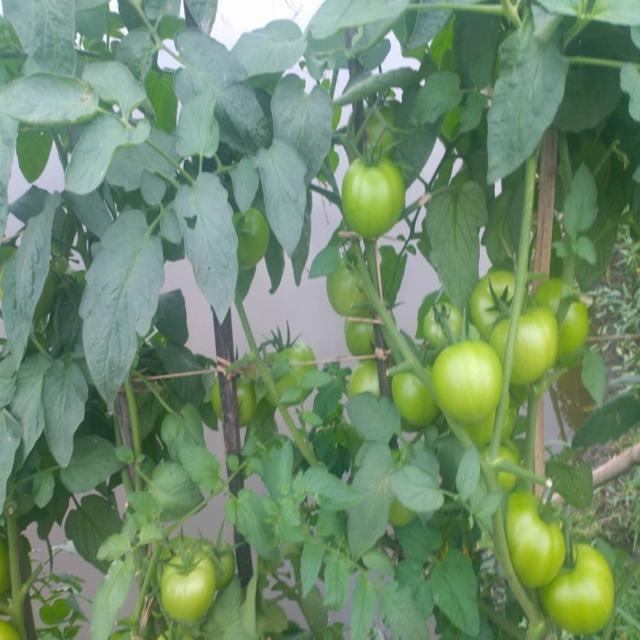tomato: (544, 541, 616, 627), (499, 495, 557, 584), (434, 346, 508, 414), (493, 313, 561, 384), (536, 276, 587, 363), (340, 157, 398, 233), (472, 270, 537, 329), (461, 390, 520, 450), (162, 550, 216, 614), (394, 361, 437, 429), (274, 337, 319, 397), (328, 256, 367, 316), (482, 443, 526, 496), (240, 214, 273, 272), (347, 358, 379, 411), (229, 373, 266, 418), (209, 534, 240, 575), (343, 320, 375, 356), (151, 533, 193, 560)
